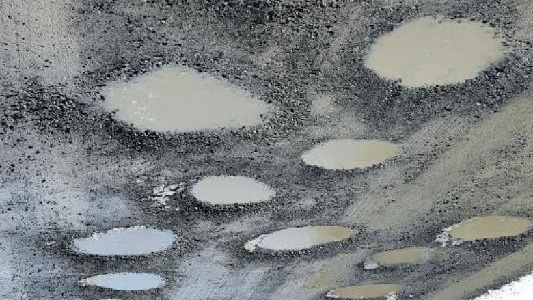pothole: (83, 57, 288, 148), (350, 13, 513, 99), (61, 223, 189, 267), (235, 223, 362, 266), (294, 136, 402, 177), (183, 174, 277, 216), (437, 212, 532, 247), (72, 272, 169, 296), (365, 245, 445, 271), (318, 280, 407, 299)
